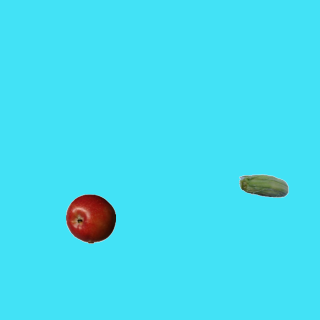Apple Braeburn: (65, 193, 115, 243)
Corn Husk: (238, 162, 288, 212)
